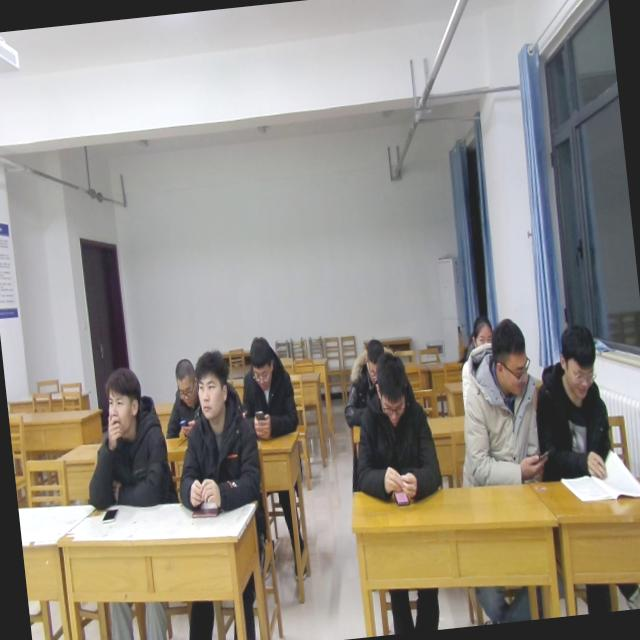bow: (234, 330, 300, 442), (336, 334, 400, 430)
down: (550, 318, 602, 404), (372, 350, 414, 427), (241, 331, 277, 395), (168, 351, 200, 408), (361, 334, 387, 383)
lookup: (188, 342, 236, 424), (100, 361, 148, 441), (466, 310, 494, 354)
sit: (163, 344, 267, 520), (444, 312, 544, 492), (342, 346, 443, 510), (74, 362, 177, 518), (526, 318, 620, 486), (452, 311, 502, 415), (158, 353, 205, 439)
